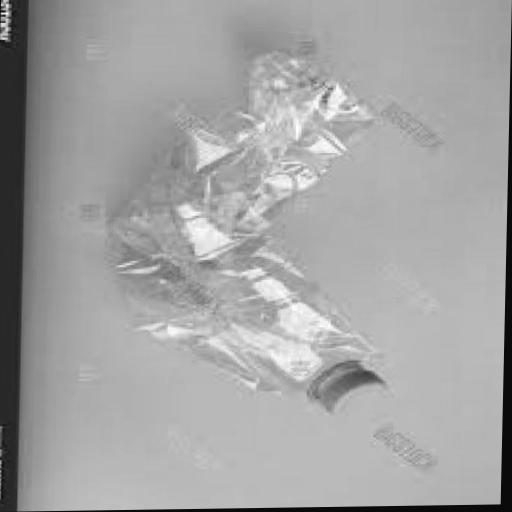bottle: (119, 41, 433, 440)
